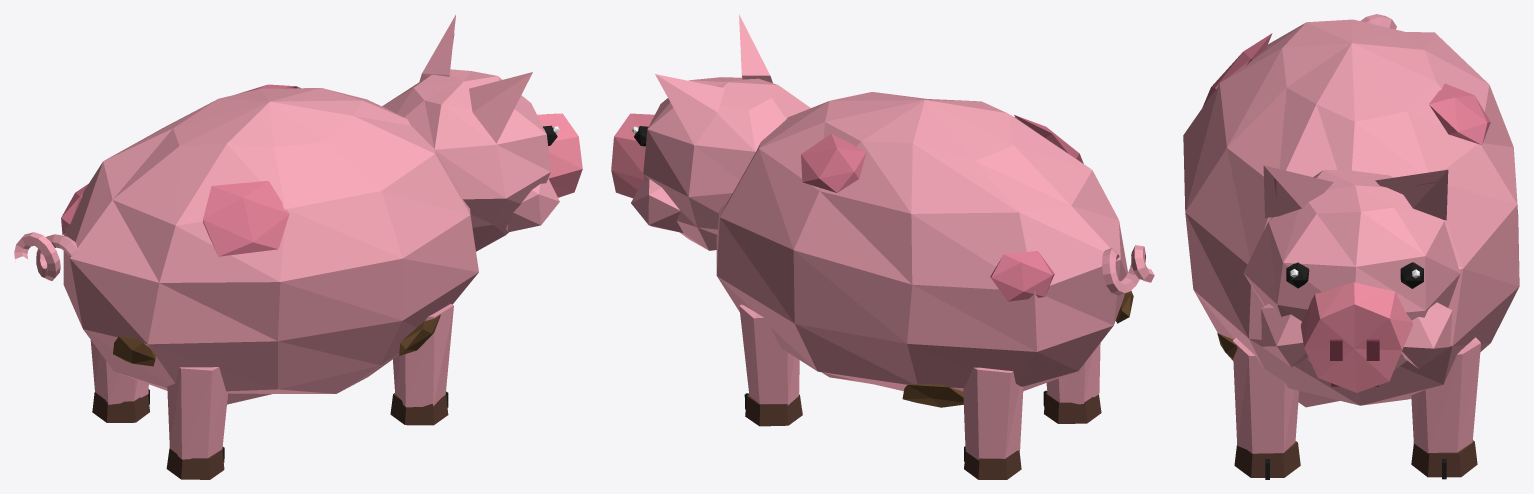
Rendered from low_poly_pig.glb.
3 renders of one model, left to right at view 1: azimuth 30°, elevation 25°; view 2: azimuth 150°, elevation 25°; view 3: azimuth 270°, elevation 25°, orthographic. The views are drawn at different scales.
Parts seen in each view (by area): view 1: Body, Head, Spot_1, Leg_BR_Upper, Leg_FR_Upper, Ear_R, Snout, Leg_BL_Upper, Tail, Cheek_R, Leg_BR_Hoof, Leg_BL_Hoof (+4 smaller); view 2: Body, Head, Leg_BL_Upper, Leg_FL_Upper, Spot_2, Ear_L, Spot_3, Snout, Leg_BR_Upper, Cheek_L, Tail, Leg_FL_Hoof (+5 smaller); view 3: Body, Head, Snout, Leg_FR_Upper, Leg_FL_Upper, Spot_2, Ear_R, Cheek_L, Ear_L, Cheek_R, Leg_FL_Hoof, Leg_FR_Hoof (+3 smaller).
Part boxes in pixels (x1,y1,x2,y2): Body: (63,88,478,404); Head: (382,69,550,251); Spot_1: (203,181,289,256); Leg_BR_Upper: (167,367,228,459); Leg_FR_Upper: (393,304,453,407); Ear_R: (469,72,532,143); Snout: (537,113,582,197); Leg_BL_Upper: (90,340,148,404); Tail: (14,232,78,280); Cheek_R: (506,178,559,232); Leg_BR_Hoof: (166,448,224,479); Leg_BL_Hoof: (92,392,149,422); Body: (716,92,1127,391); Head: (643,77,810,250); Leg_BL_Upper: (963,367,1023,460); Leg_FL_Upper: (739,304,799,405); Spot_2: (801,133,866,192); Ear_L: (655,74,724,145); Spot_3: (990,251,1054,301); Snout: (611,113,654,198); Leg_BR_Upper: (1046,343,1100,404); Cheek_L: (631,178,683,232); Tail: (1102,245,1154,295); Leg_FL_Hoof: (745,394,802,426); Body: (1183,19,1519,407); Head: (1243,170,1460,370); Snout: (1301,282,1412,392); Leg_FR_Upper: (1232,338,1299,453); Leg_FL_Upper: (1411,337,1480,453); Spot_2: (1429,83,1490,144); Ear_R: (1263,165,1333,217); Cheek_L: (1401,302,1452,368); Ear_L: (1375,169,1448,220); Cheek_R: (1261,304,1308,366); Leg_FL_Hoof: (1411,440,1477,477); Leg_FR_Hoof: (1234,441,1300,477).
Size of the model in its own units: 3.87 by 2.18 by 1.83.
